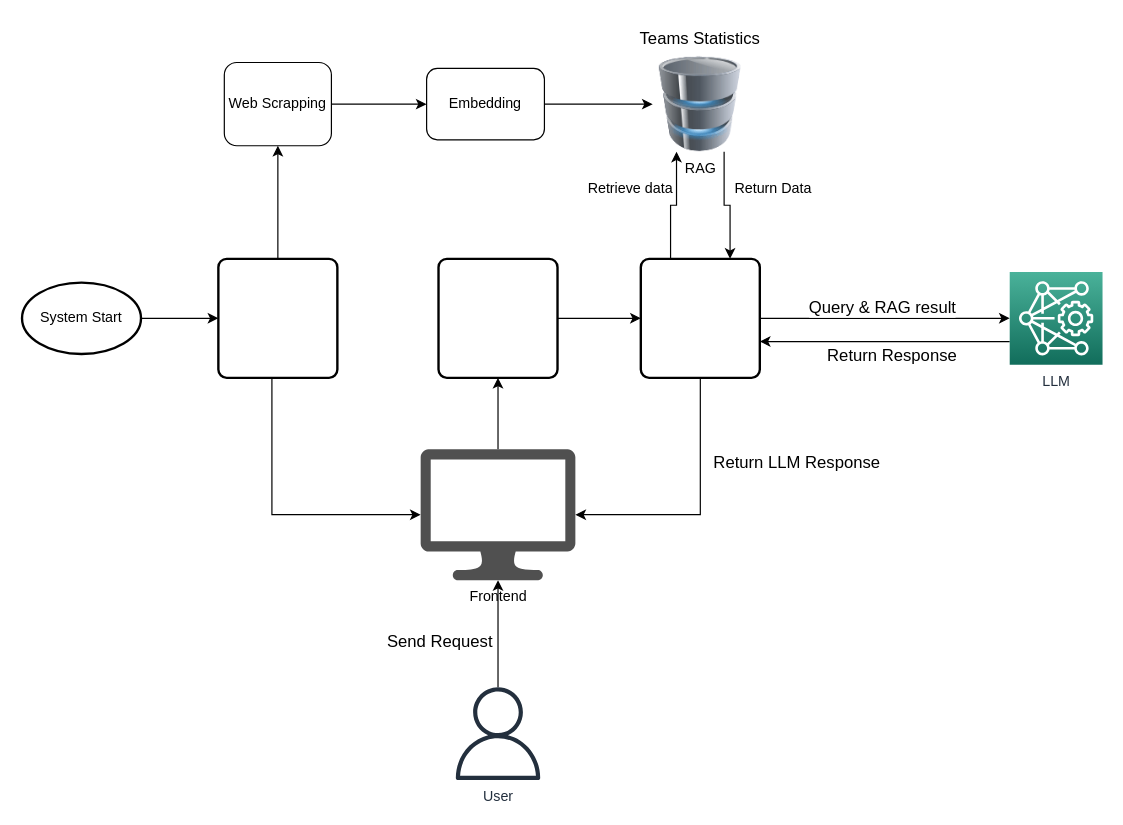
This 1123x825 diagram has some shape labels left out. Here are the shapes that lost their labels. From the top down, the centre of each, then its label:
At point 277,317: "Initialization".
At point 497,317: "Analyze User Query".
At point 699,317: "Strategist".
